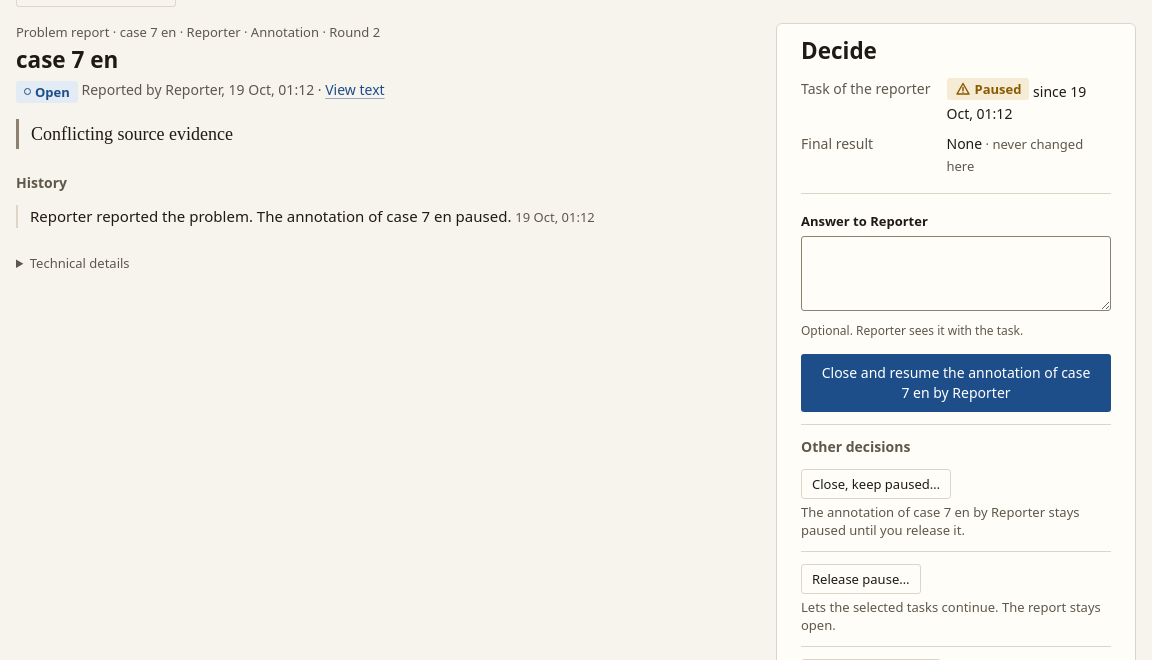
Test: records a resolve in the Documents visit state when entered from Documents
This screenshot has width=1152, height=660.
Click the button "Close, keep paused…". click: (876, 484)
box: [801,469,951,499]
(page scrolled)
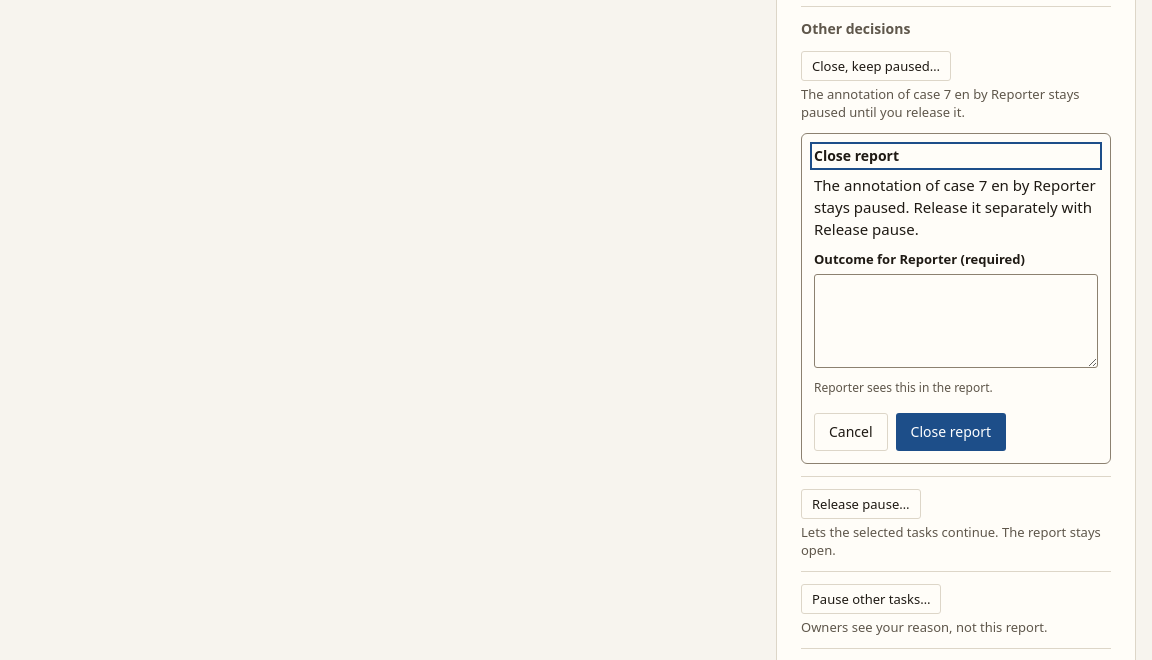
Type "Done" into the text box. click: (956, 321)
box: [814,274,1098,368]
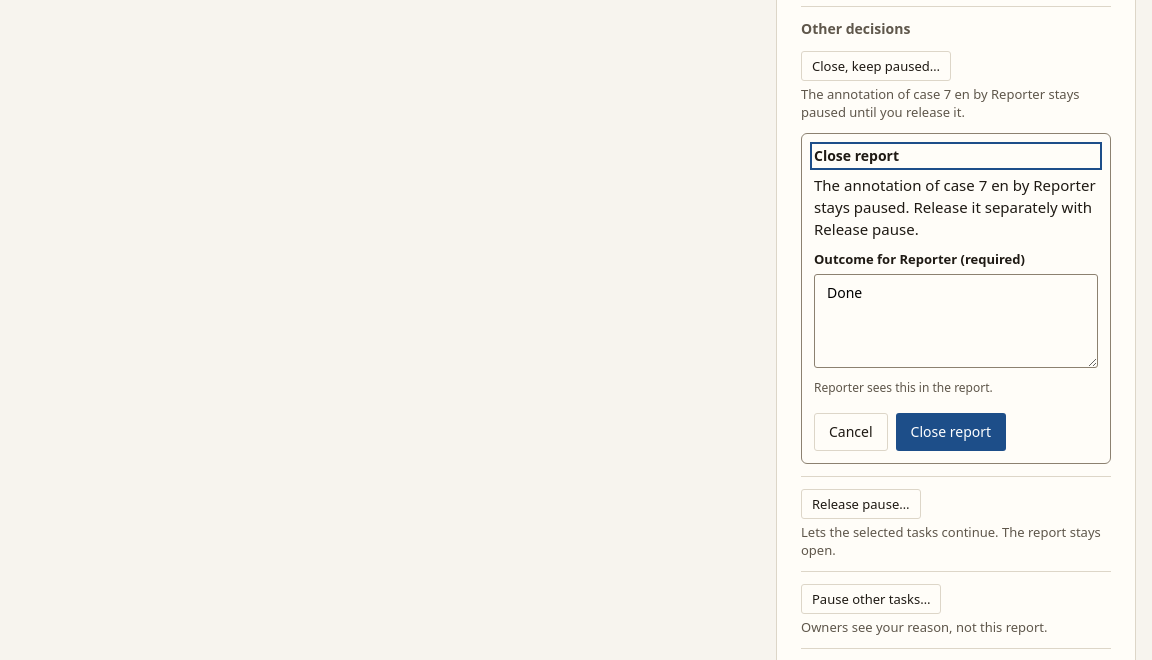
Click the button "Close report". click: (951, 432)
box: [896,413,1006,451]
(page scrolled)
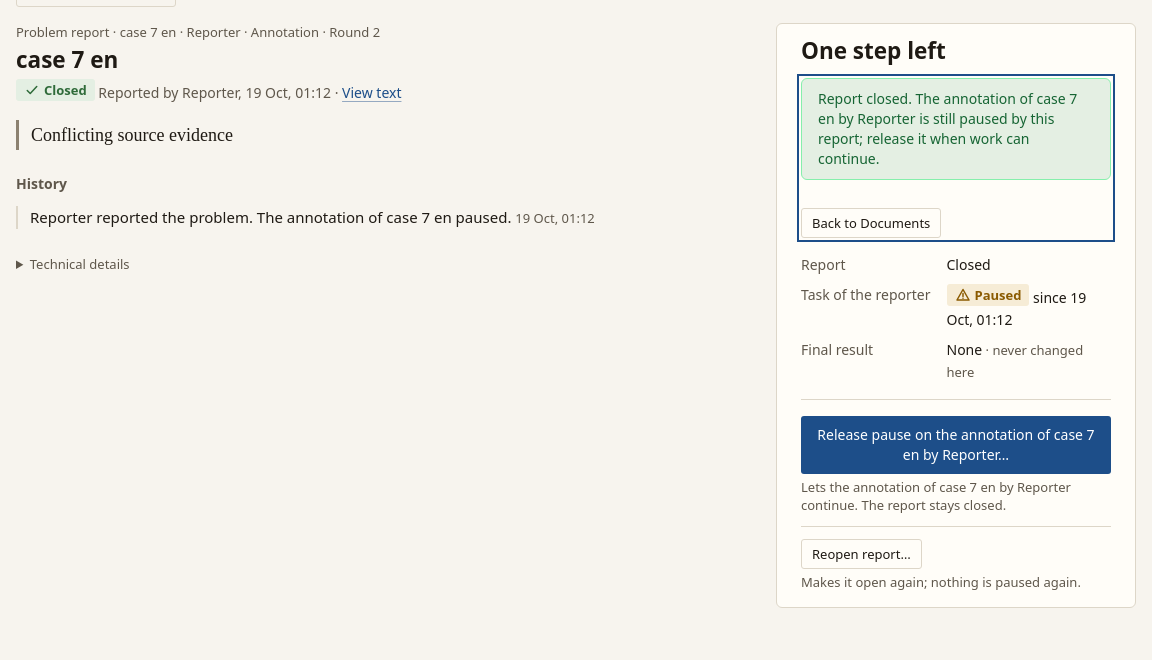
expect the text "Report closed" is shown: met, box [818,89,1077,168]
